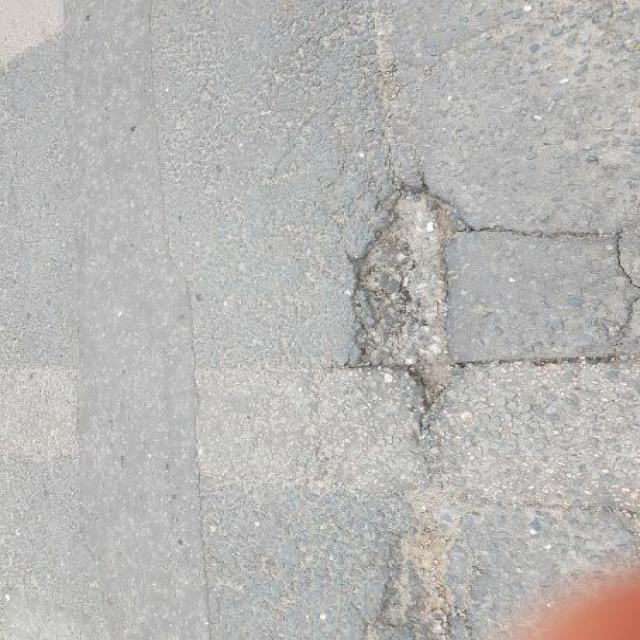pothole: (334, 177, 499, 416)
